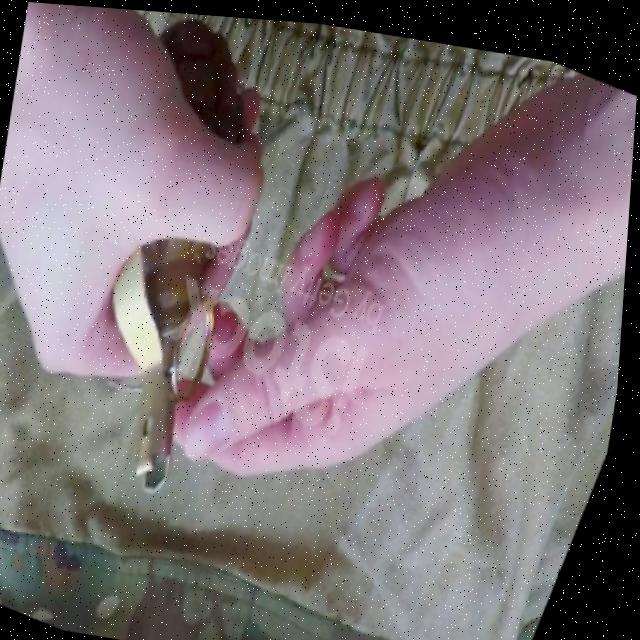grenade: (0, 1, 333, 521)
